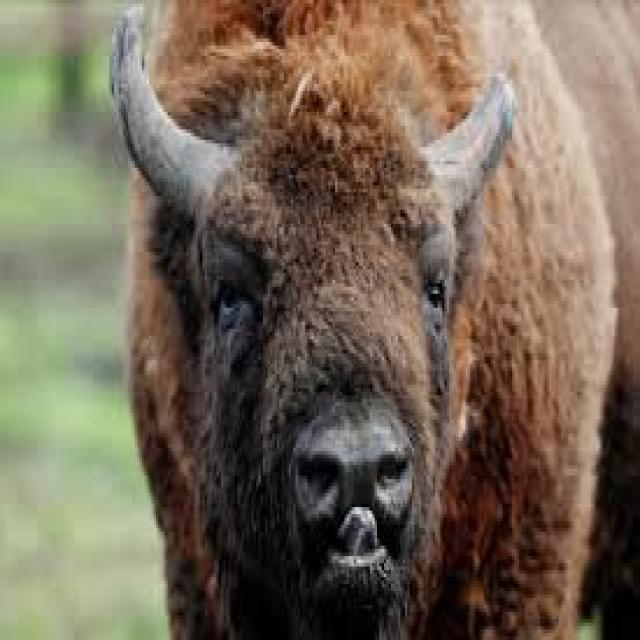Bison: (91, 0, 640, 637)
